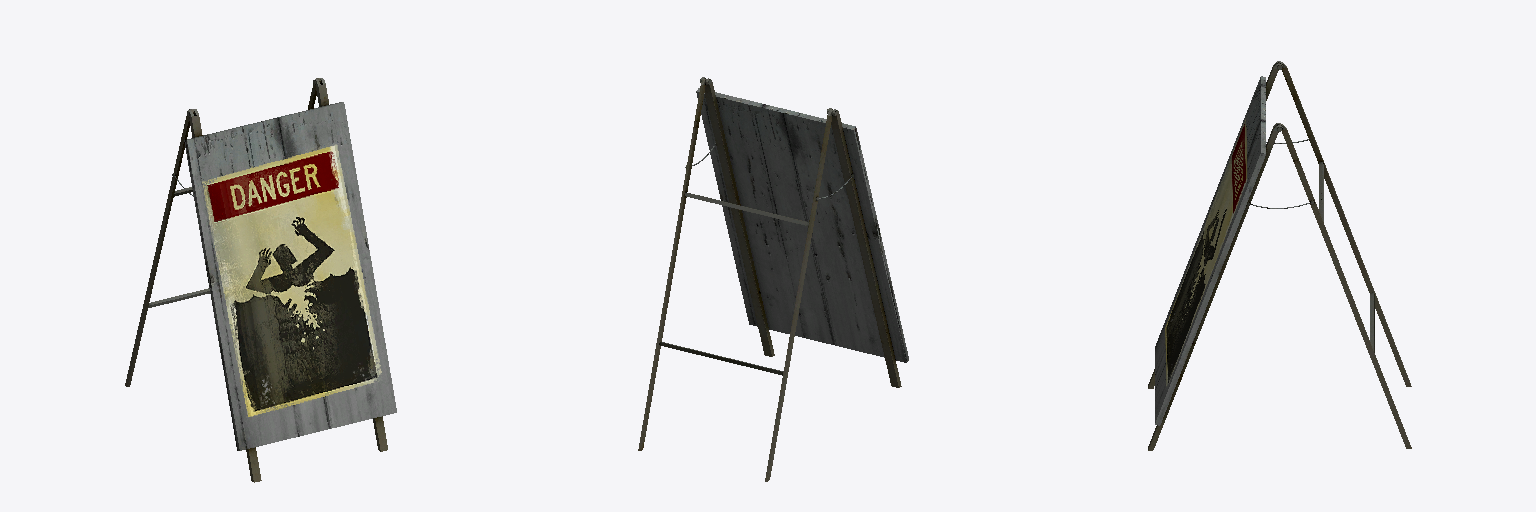
The picture shows the model from 3 angles: view 1: azimuth 30°, elevation 25°; view 2: azimuth 150°, elevation 25°; view 3: azimuth 270°, elevation 25°; orthographic projection.
Visible parts, largest first — view 1: g0; view 2: g0; view 3: g0.
Part boxes in pixels (bbox=[...]): g0: bbox=[125, 78, 396, 482]; g0: bbox=[638, 77, 908, 481]; g0: bbox=[1148, 61, 1411, 450].
Size of the model in its own units: 32 by 62.96 by 46.38.
1 materials, 1 textured.